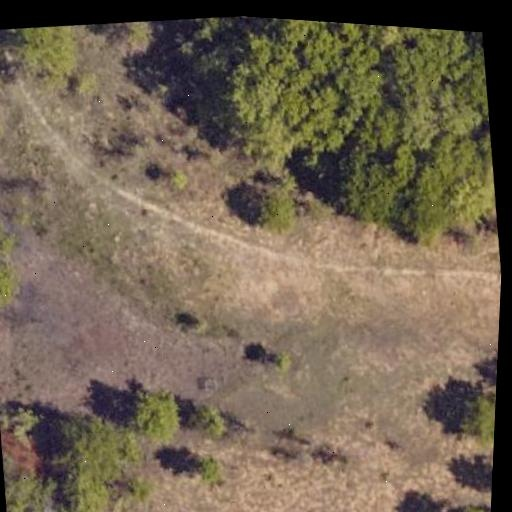tree-top: (195, 22, 343, 169), (264, 18, 464, 125), (384, 128, 497, 265), (42, 399, 125, 512), (1, 21, 82, 90), (327, 149, 398, 225), (230, 178, 301, 239), (0, 445, 63, 512), (125, 382, 186, 444), (448, 382, 496, 451), (182, 392, 230, 444), (188, 449, 226, 486), (0, 251, 20, 314), (481, 456, 493, 502), (0, 131, 10, 178), (0, 96, 4, 141)
